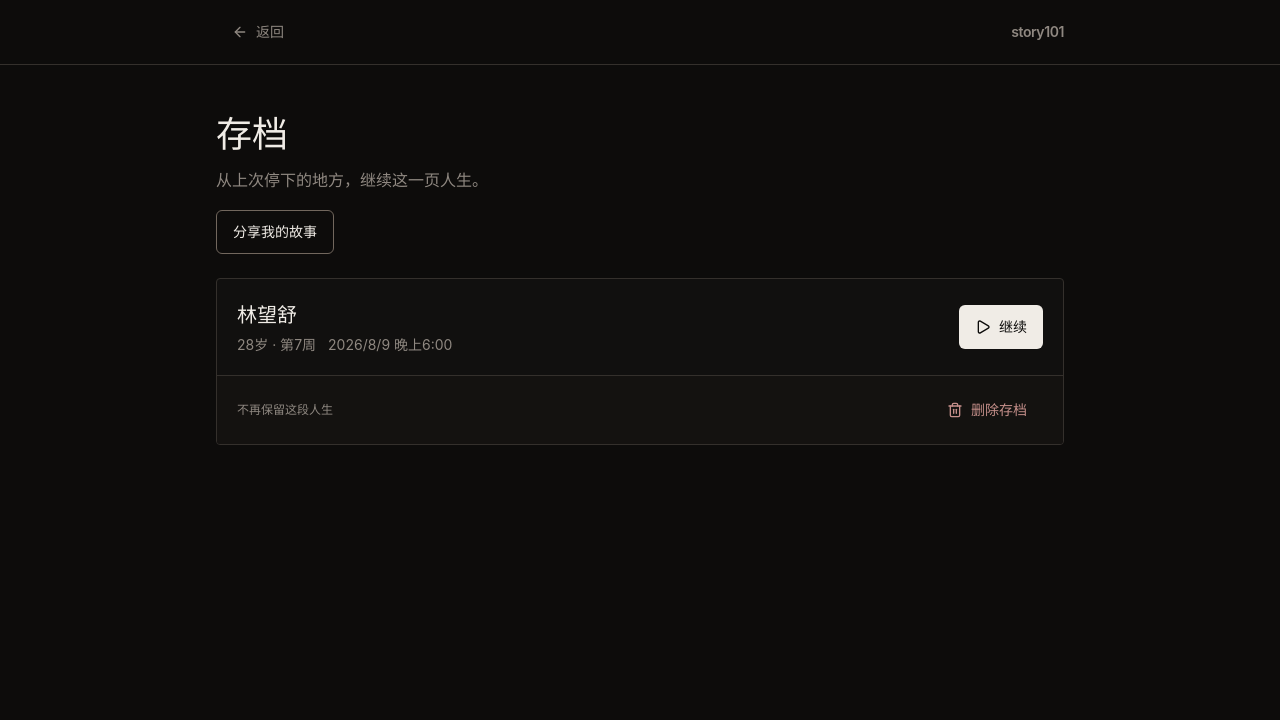
Test: SavesPage - story101 recovery and destructive actions › names the delete target and explicitly focuses cancel when the dialog opens
The width and height of the screenshot is (1280, 720).
Click the button with aria-label "删除存档“林望舒”（存档 17）" at point(987, 410), box [931,388,1043,432]
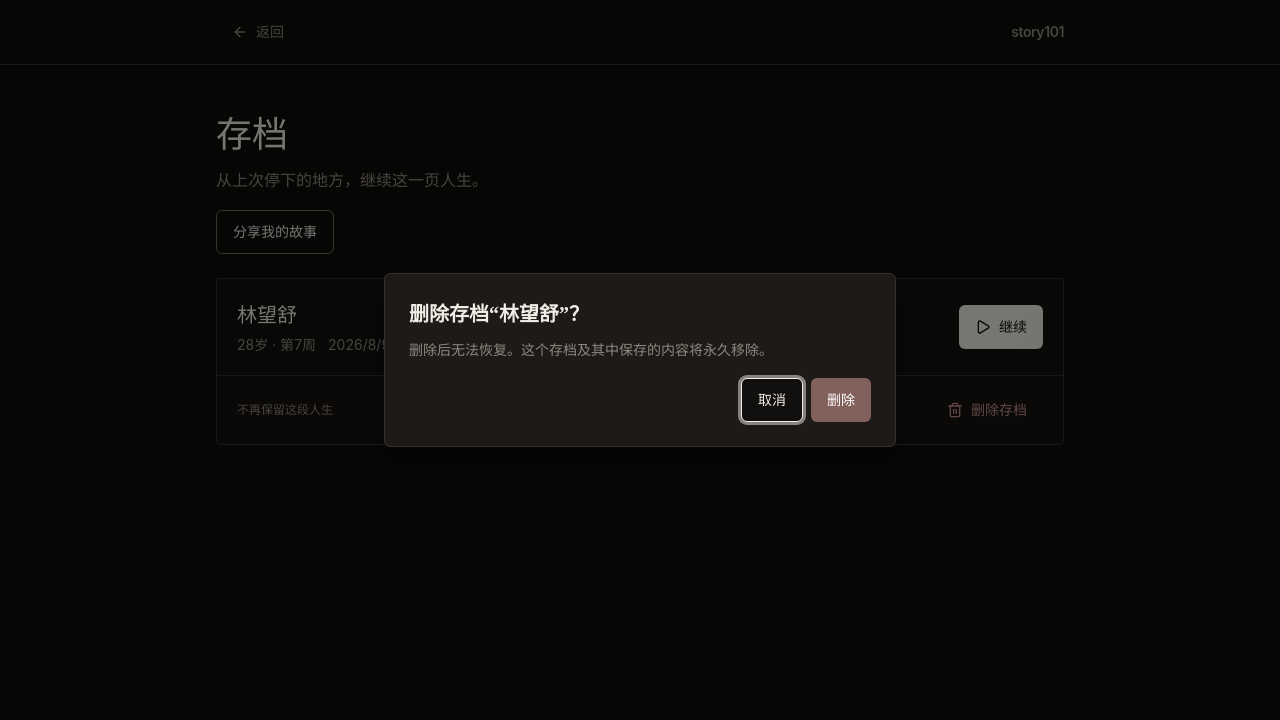
Expected: the heading "删除存档“林望舒”？" is shown, [409,303,589,325]
Expected: the text "删除后无法恢复" is shown, [409,341,549,358]
